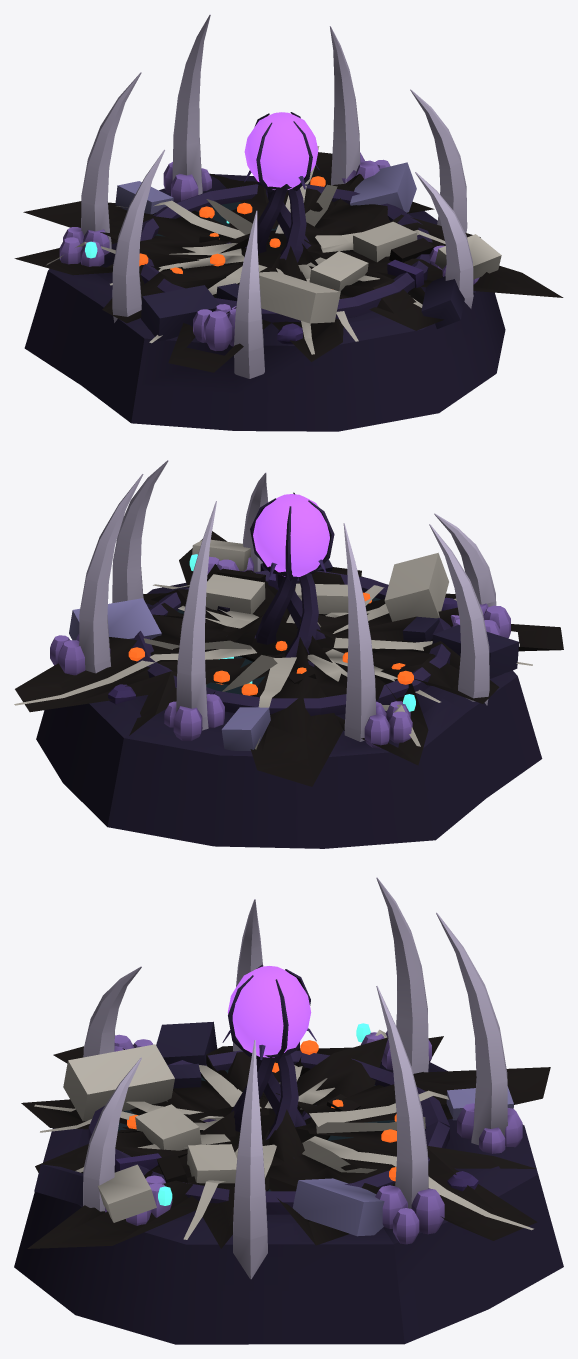
The model's file is spawning-pool-nacre.glb.
The picture shows the model from 3 angles, top to bottom: view 1: azimuth 30°, elevation 25°; view 2: azimuth 150°, elevation 25°; view 3: azimuth 270°, elevation 25°; orthographic projection. The views are drawn at different scales.
Visible parts, largest first — view 1: site_spawning_pool_nacre_body, site_spawning_pool_nacre_ruin, site_spawning_pool_nacre_core; view 2: site_spawning_pool_nacre_body, site_spawning_pool_nacre_ruin, site_spawning_pool_nacre_core; view 3: site_spawning_pool_nacre_body, site_spawning_pool_nacre_ruin, site_spawning_pool_nacre_core.
Boxes of the visible parts, box(x1,y1,x2,y2) form: site_spawning_pool_nacre_body: box(24, 14, 505, 431); site_spawning_pool_nacre_ruin: box(14, 146, 563, 372); site_spawning_pool_nacre_core: box(244, 112, 318, 192); site_spawning_pool_nacre_body: box(36, 460, 542, 848); site_spawning_pool_nacre_ruin: box(14, 531, 563, 786); site_spawning_pool_nacre_core: box(250, 492, 334, 581); site_spawning_pool_nacre_body: box(14, 877, 563, 1344); site_spawning_pool_nacre_ruin: box(21, 1021, 550, 1248); site_spawning_pool_nacre_core: box(227, 964, 311, 1061).
Bounding box in the file's own units: 4.93 × 3.46 × 5.27.
